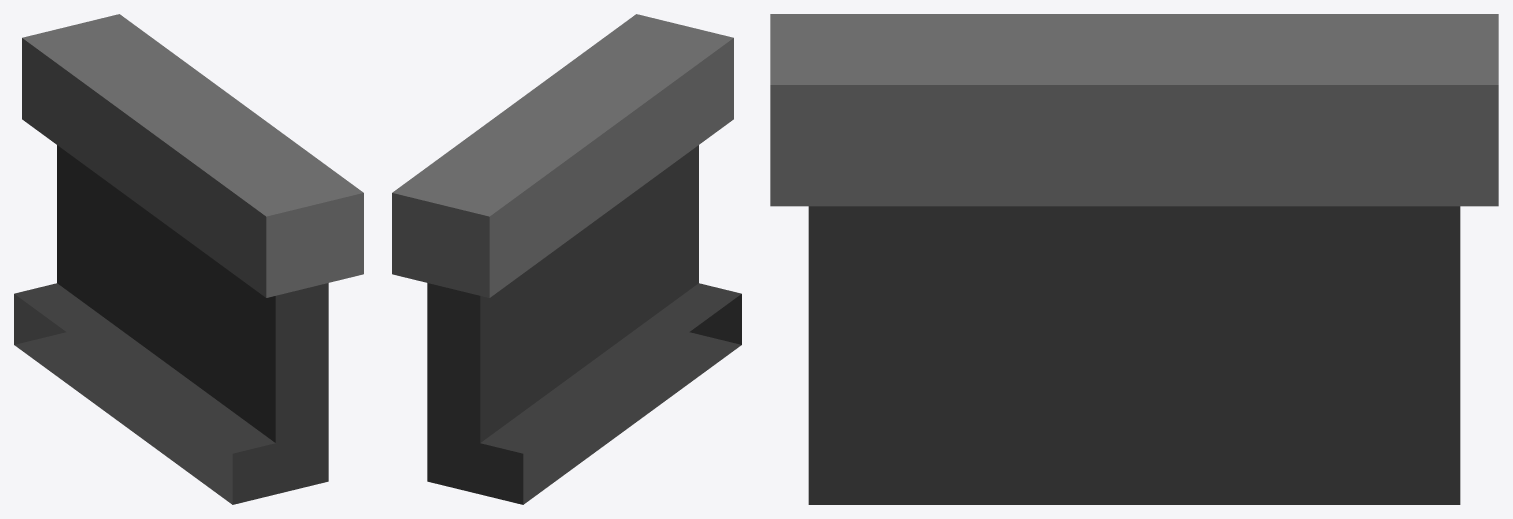
Rendered from Itr_Officechair_Side_Right_03.FBX.
3 views of the same model, side by side, from view 1: azimuth 30°, elevation 25°; view 2: azimuth 150°, elevation 25°; view 3: azimuth 270°, elevation 25° (orthographic). The views are drawn at different scales.
Parts seen in each view (by area): view 1: Itr_Officechair_Side_Right_03; view 2: Itr_Officechair_Side_Right_03; view 3: Itr_Officechair_Side_Right_03.
Part boxes in pixels (x1=…): Itr_Officechair_Side_Right_03: x1=14, y1=14, x2=363, y2=504; Itr_Officechair_Side_Right_03: x1=392, y1=14, x2=741, y2=504; Itr_Officechair_Side_Right_03: x1=770, y1=14, x2=1498, y2=504.
Bounding box in the file's own units: 5.8 × 13.72 × 20.76.
